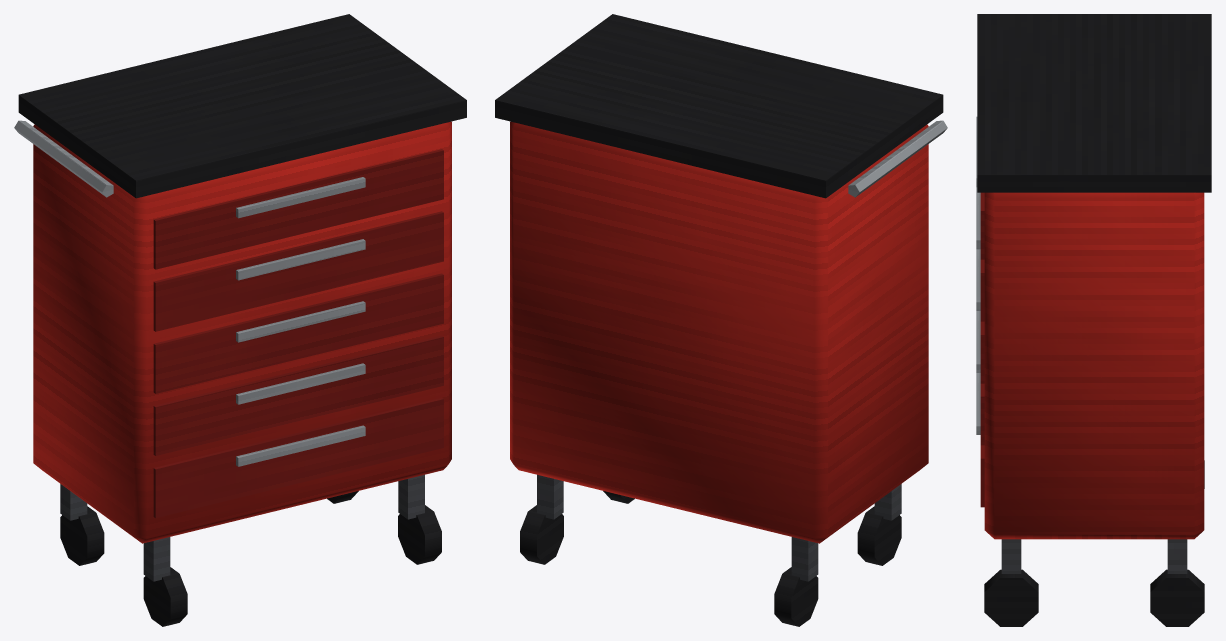
File: carrinho_ferramentas.glb
The picture shows the model from 3 angles, left to right: view 1: azimuth 30°, elevation 25°; view 2: azimuth 150°, elevation 25°; view 3: azimuth 270°, elevation 25°; orthographic projection.
Visible parts, largest first — view 1: Inteiro; view 2: Inteiro; view 3: Inteiro.
Boxes of the visible parts, box(x1,y1,x2,y2) form: Inteiro: box(14, 14, 466, 626); Inteiro: box(495, 14, 947, 626); Inteiro: box(976, 14, 1211, 626).
Size of the model in its own units: 0.825 by 1.05 by 0.482.
Materials: 1 (1 with a texture image).
